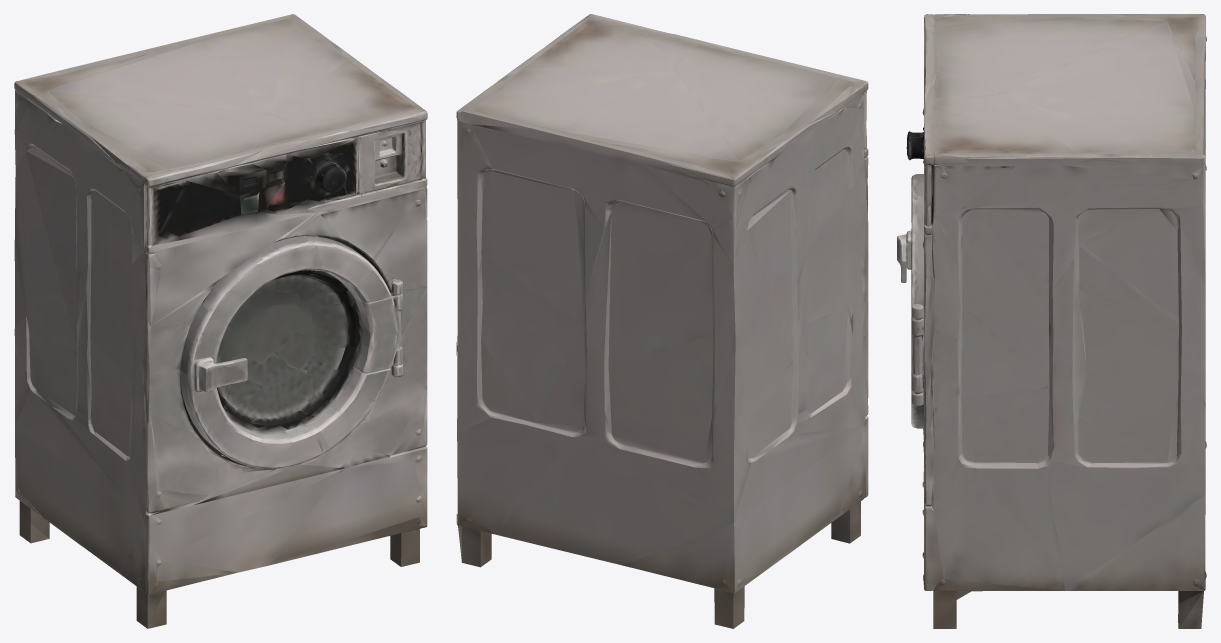
File: washer.glb
The picture shows the model from 3 angles, left to right: view 1: azimuth 30°, elevation 25°; view 2: azimuth 150°, elevation 25°; view 3: azimuth 270°, elevation 25°; orthographic projection. The views are drawn at different scales.
Parts seen in each view (by area): view 1: Mesh_0; view 2: Mesh_0; view 3: Mesh_0.
Boxes of the visible parts, x1=… form: Mesh_0: x1=14, y1=14, x2=427, y2=628; Mesh_0: x1=456, y1=14, x2=868, y2=628; Mesh_0: x1=897, y1=14, x2=1206, y2=628.
Size of the model in its own units: 1.24 by 1.9 by 1.12.
Materials: 1 (1 with a texture image).
